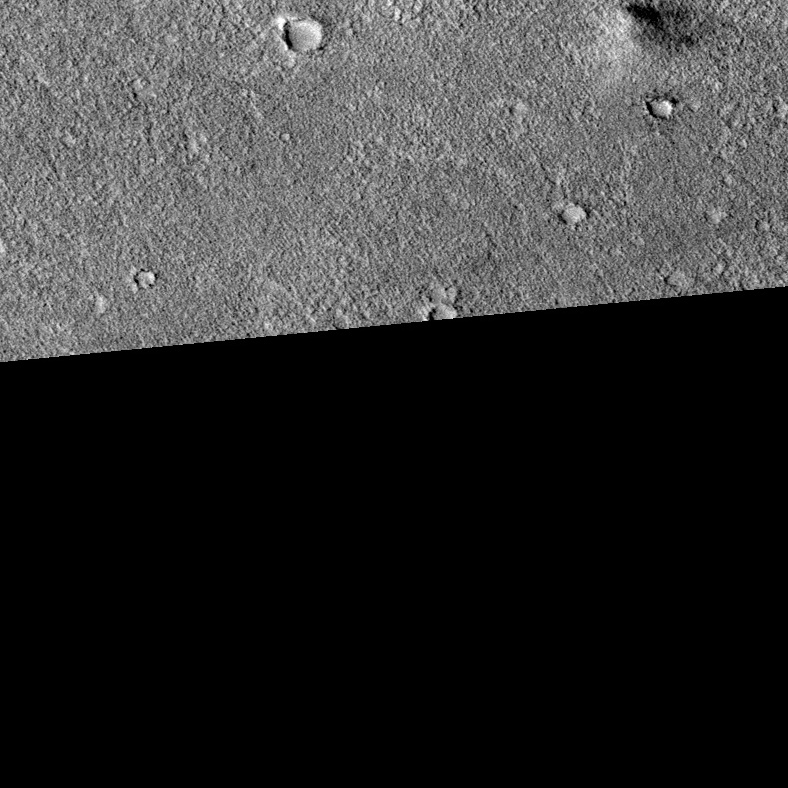dust_devil: (605, 1, 740, 71)
